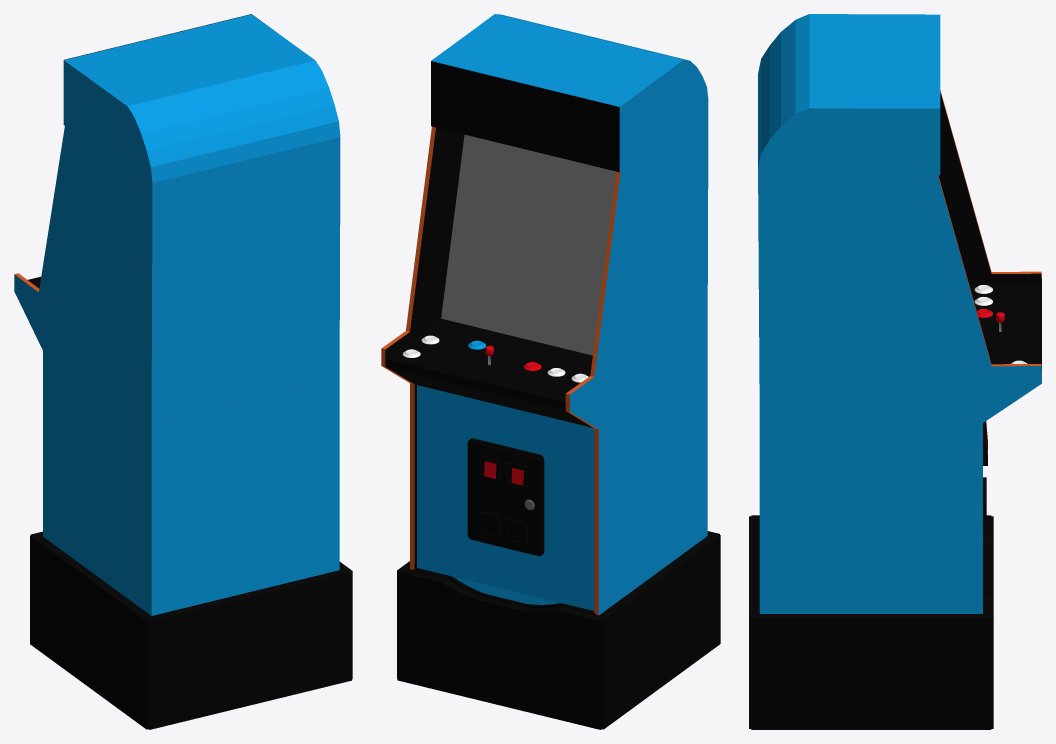
The model's file is Arcade.fbx.
3 renders of one model, left to right at view 1: azimuth 30°, elevation 25°; view 2: azimuth 150°, elevation 25°; view 3: azimuth 270°, elevation 25°, orthographic. The views are drawn at different scales.
Visible parts, largest first — view 1: ArcadeMachineYellow.001; view 2: ArcadeMachineYellow.001; view 3: ArcadeMachineYellow.001.
Boxes of the visible parts, <box> form: ArcadeMachineYellow.001: <box>14,14,352,729</box>; ArcadeMachineYellow.001: <box>381,14,720,729</box>; ArcadeMachineYellow.001: <box>749,14,1041,729</box>.
Bounding box in the file's own units: 431 × 1201 × 516.
